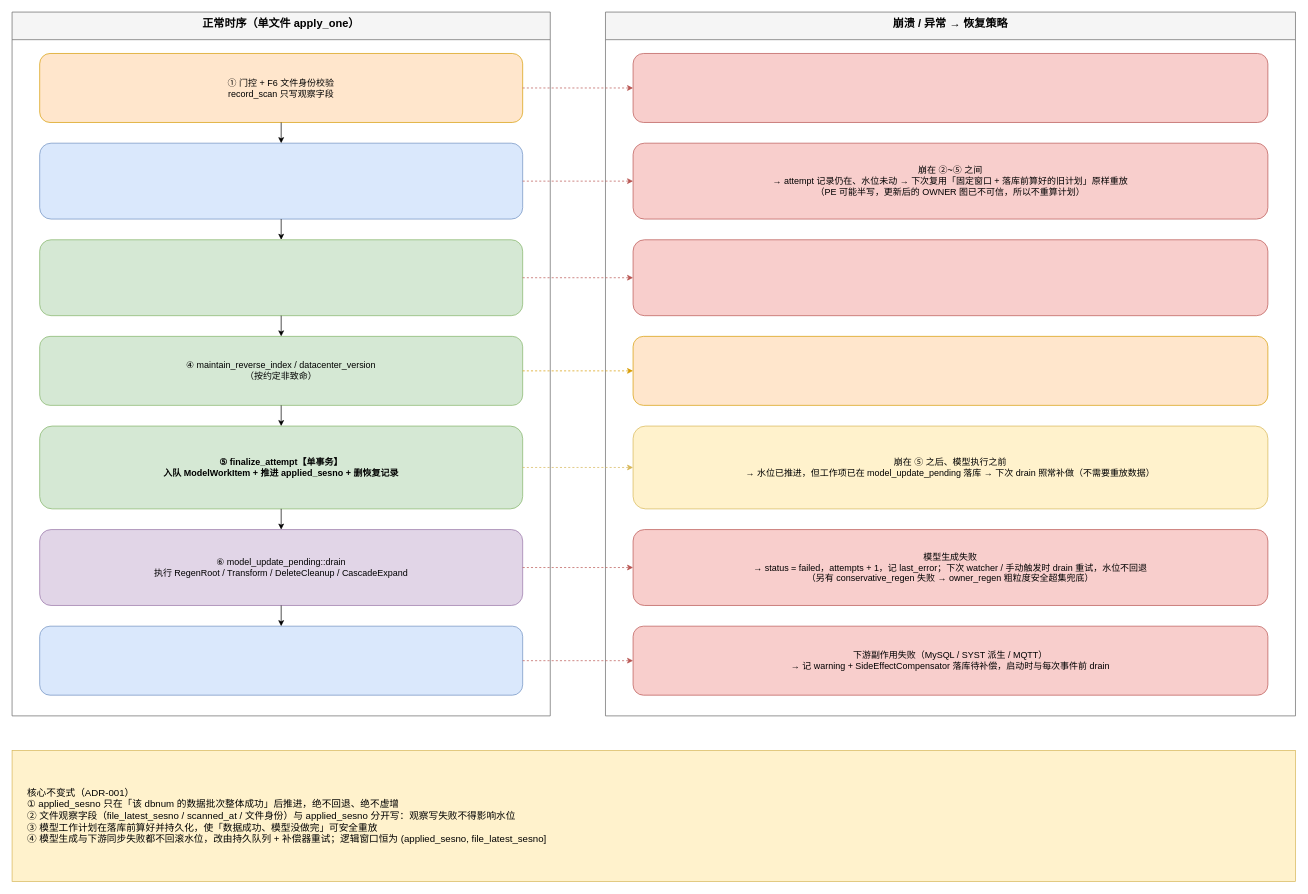
Image size: 1308x894. Some labels were removed from this diagram. Each missing label, with the centre of its shape:
② prepare_attempt 写 increment_update_attempt：固定 range + 模型计划: [281,180]
③ persist_latest_main_data 分块事务 chunk=500 · UPSERT 幂等 · 只写 pe 最新态: [281,277]
⑦ 下游副作用 MySQL / SYST 派生 / MQTT 异地同步: [281,660]
反向索引 / datacenter 写失败 → 只记 warning，绝不阻塞数据批次与水位；缺一条引用边最多漏一次级联，靠后续触及或全量重建自愈: [950,370]
文件回退（file_latest < applied）/ 同 dbnum 多个文件 → 阻断该文件，水位绝不回退，也不自动挑选文件: [950,87]
落库事务失败 / 半写 → 水位不推进；UPSERT 幂等使同一窗口重放从可收敛状态开始 （避免「半写 + 重试撞已存在记录」把 dbnum 水位卡死）: [950,277]
